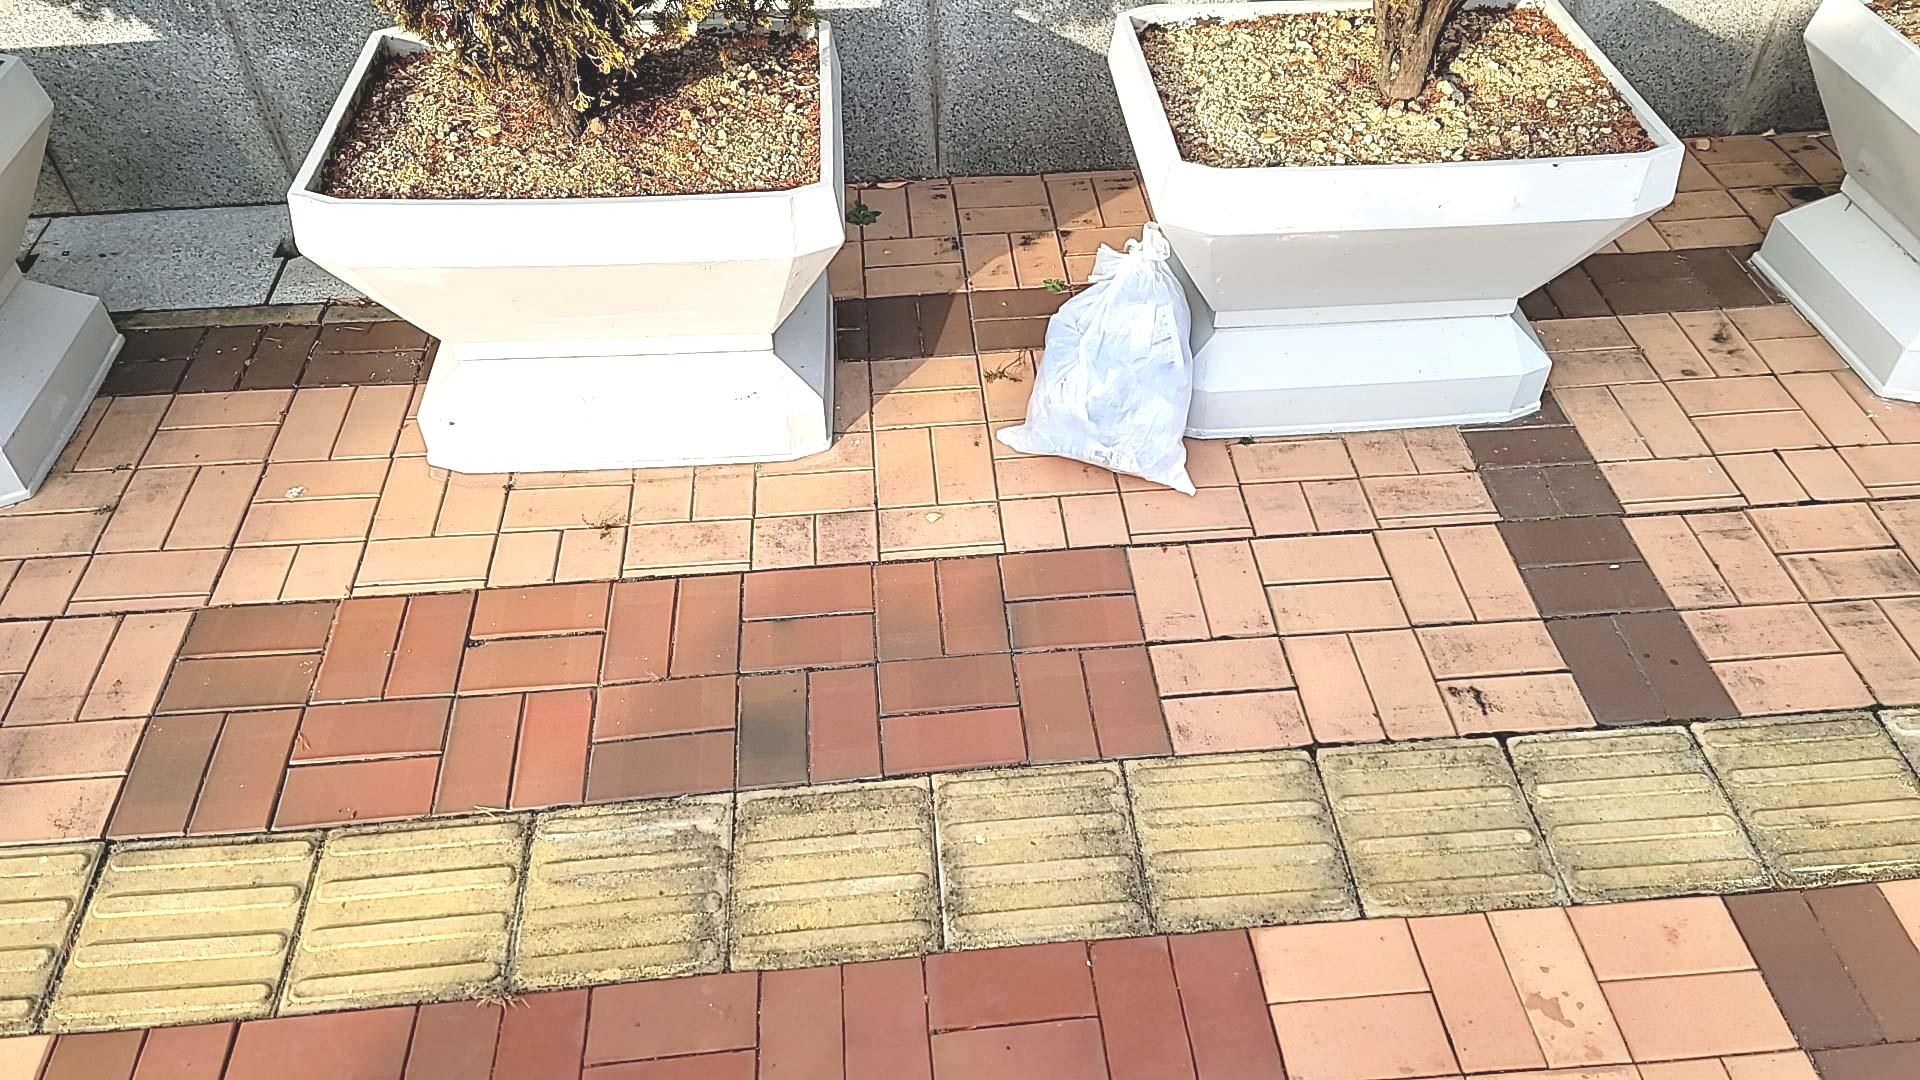white_bag: (982, 211, 1218, 506)
